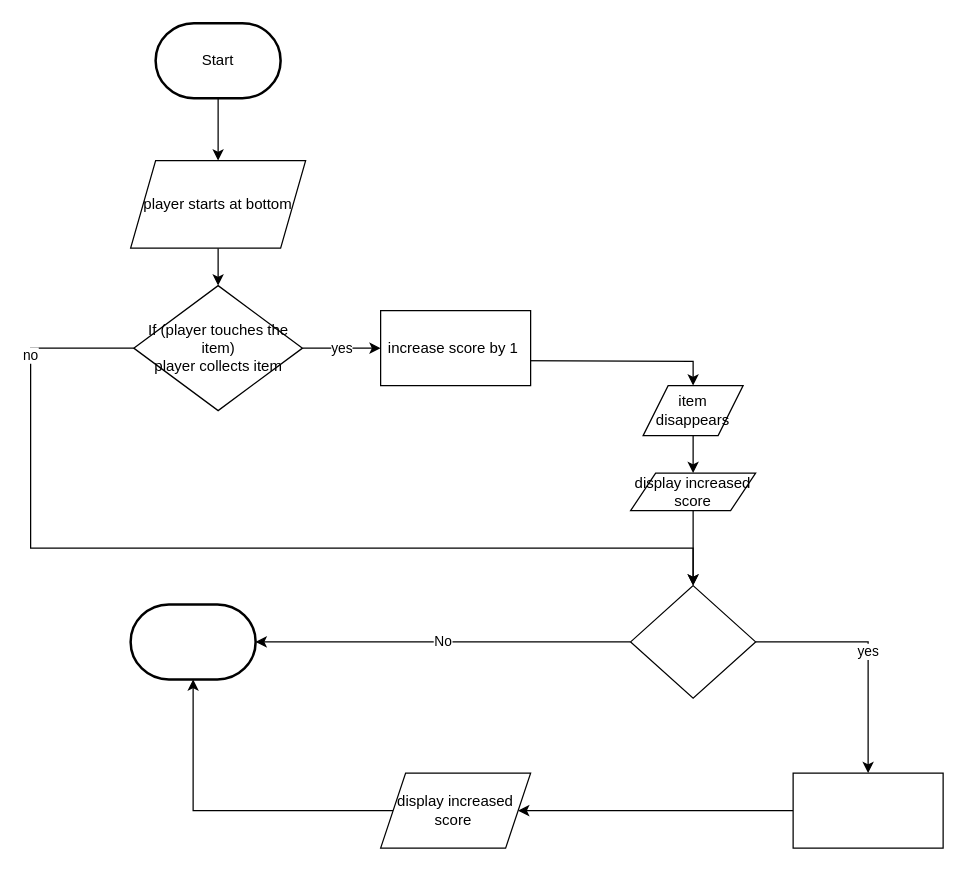
This 965x870 diagram has some shape labels left out. Each missing label, with the box of its shape:
if player reaches top: (629, 584, 756, 698)
increase score by 3: (792, 772, 943, 848)
Stop: (129, 602, 256, 680)
